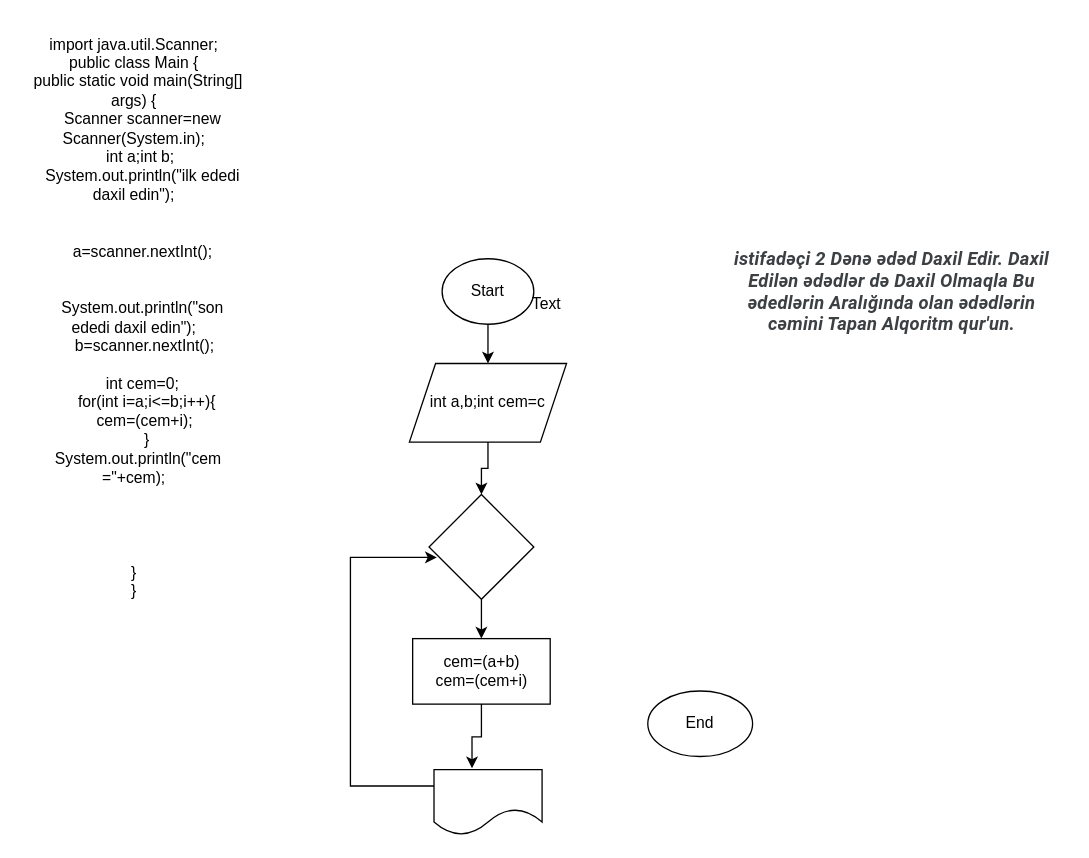
This 1089x858 diagram has some shape labels left out. Here are the shapes that lost their labels. From the top down, the centre of each, then its label:
pixel 481 546: i=a; a<=b; i++
pixel 487 801: cem=+cem
